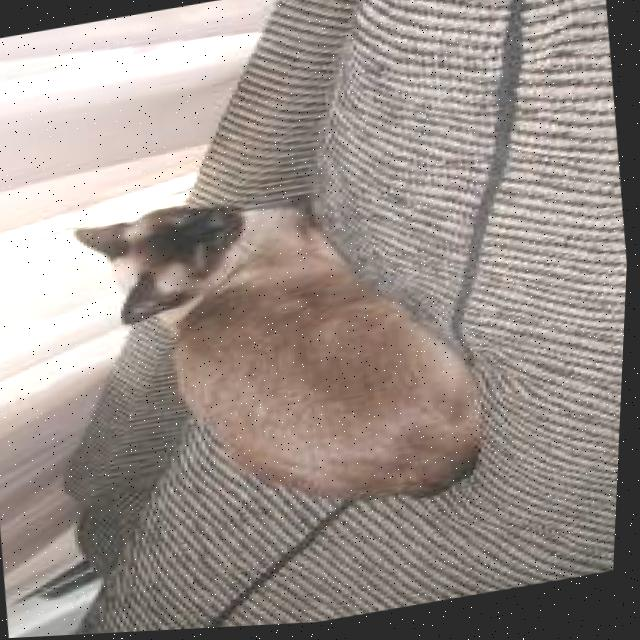Siamese: (55, 151, 513, 558)
